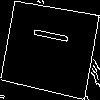I: (24, 23, 69, 46)
